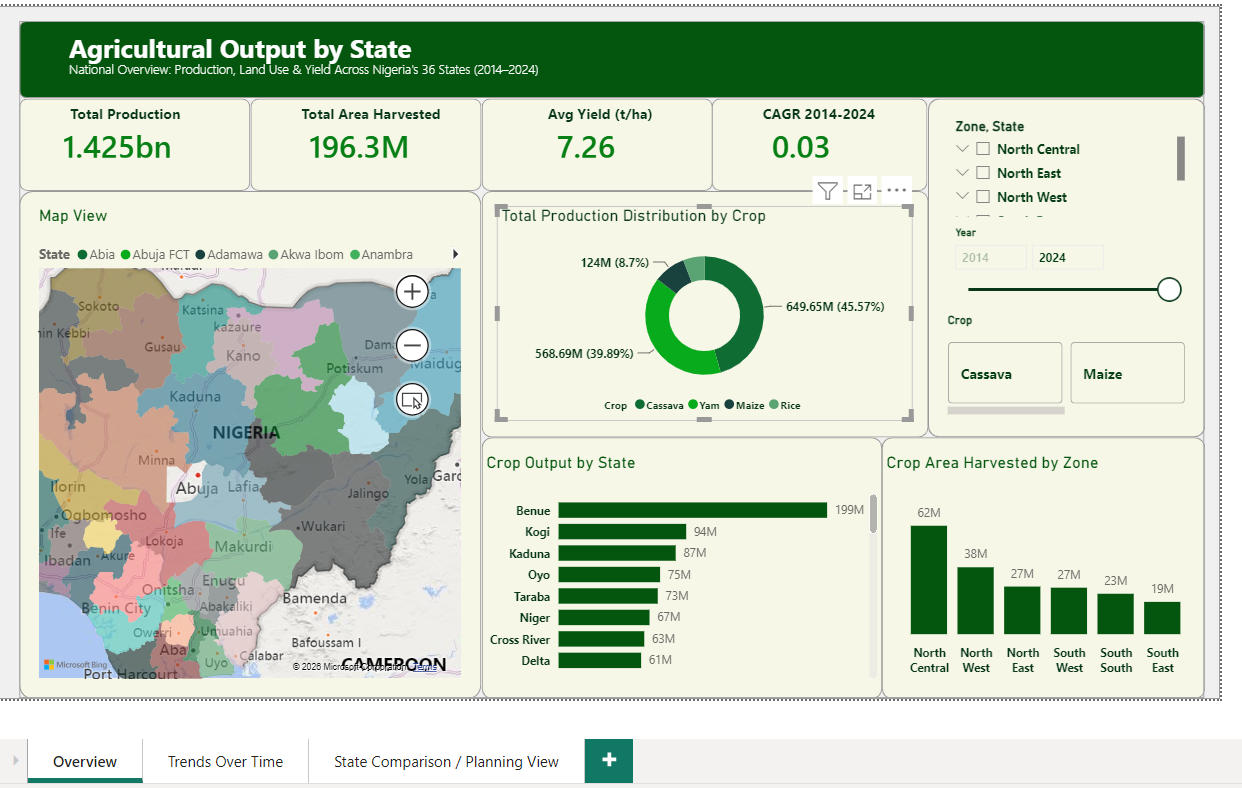

The dashboard page shown, as its layout file describes it:
{"tool":"powerbi","page":{"name":"Overview","canvas":[1280,720],"ordinal":0},"visuals":[{"type":"shape","box":[0,0,1280,720],"z":0},{"type":"shape","box":[32,16,1232,80],"z":1000,"group":"g1"},{"type":"shape","box":[928,448,336,272],"z":1000},{"type":"shape","box":[32,192,480,528],"z":2000,"group":"g1"},{"type":"clusteredColumnChart","title":"Crop Area Harvested  by Zone","fields":{"Category":["Dim_State.Zone"],"Y":["Fact_Crop Output.Total Area Harvested"]},"box":[928,464,336,240],"z":2000},{"type":"group","id":"g1","title":"Group 1","box":[32,16,1232,704],"z":3000},{"type":"shape","box":[512,192,464,256],"z":3000,"group":"g1"},{"type":"textbox","box":[79.5,20.3,656,48],"z":4000},{"type":"shape","box":[512,448,416,272],"z":4000,"group":"g1"},{"type":"textbox","box":[79.5,52.3,896,32],"z":5000},{"type":"filledMap","title":"Map View","fields":{"Category":["Dim_State.State"],"Series":["Fact_Crop Output.State"]},"box":[48,208,448,496],"z":5000,"group":"g1"},{"type":"clusteredBarChart","title":"Crop Output  by State","fields":{"Category":["Dim_State.State"],"Y":["Fact_Crop Output.Total Production"]},"box":[512,464,416,240],"z":6000,"group":"g1"},{"type":"donutChart","title":"Total Production Distribution by Crop","fields":{"Category":["Fact_Crop Output.Crop"],"Y":["Fact_Crop Output.Total Production"]},"box":[528,208,432,224],"z":7000,"group":"g1"},{"type":"shape","box":[976,96,288,352],"z":9000,"group":"g1"},{"type":"advancedSlicerVisual","fields":{"Values":["Fact_Crop Output.Crop"]},"box":[992,320,256,112],"z":10000,"group":"g1"},{"type":"slicer","fields":{"Values":["Dim_Year.Year"]},"box":[992,224,256,96],"z":11000,"group":"g1"},{"type":"slicer","fields":{"Values":["Dim_State.Zone","Dim_State.State"]},"box":[992,112,256,112],"z":12000,"group":"g1"},{"type":"shape","box":[32,96,240,96],"z":13000,"group":"g1"},{"type":"shape","box":[272,96,240,96],"z":14000,"group":"g1"},{"type":"shape","box":[512,96,240,96],"z":15000,"group":"g1"},{"type":"shape","box":[752,96,224,96],"z":16000,"group":"g1"},{"type":"cardVisual","fields":{"Data":["Fact_Crop Output.Total Production"]},"box":[48,112,208,64],"z":17000,"group":"g1"},{"type":"cardVisual","fields":{"Data":["Fact_Crop Output.Total Area Harvested"]},"box":[304,112,176,64],"z":18000,"group":"g1"},{"type":"cardVisual","fields":{"Data":["Fact_Crop Output.Avg Yield (t/ha)"]},"box":[560,112,176,64],"z":19000,"group":"g1"},{"type":"cardVisual","fields":{"Data":["Dim_Year.CAGR 2014-2024"]},"box":[784,112,176,64],"z":20000,"group":"g1"},{"type":"textbox","box":[80,96,176,32],"z":21000,"group":"g1"},{"type":"textbox","box":[320,96,176,32],"z":22000,"group":"g1"},{"type":"textbox","box":[576,96,176,32],"z":23000,"group":"g1"},{"type":"textbox","box":[800,96,176,32],"z":24000,"group":"g1"}]}

Visuals, with their boxes on the page's 1280x720 design canvas (x1, y1, x2, y2). These are canvas units, not pixel positions in the 1242x788 screenshot, which may show the page scaled, cropped or inside an application window:
shape: bbox=(0, 0, 1280, 720)
shape: bbox=(32, 16, 1264, 96)
shape: bbox=(928, 448, 1264, 720)
shape: bbox=(32, 192, 512, 720)
"Crop Area Harvested  by Zone" clusteredColumnChart: bbox=(928, 464, 1264, 704)
"Group 1" group: bbox=(32, 16, 1264, 720)
shape: bbox=(512, 192, 976, 448)
textbox: bbox=(80, 20, 736, 68)
shape: bbox=(512, 448, 928, 720)
textbox: bbox=(80, 52, 976, 84)
"Map View" filledMap: bbox=(48, 208, 496, 704)
"Crop Output  by State" clusteredBarChart: bbox=(512, 464, 928, 704)
"Total Production Distribution by Crop" donutChart: bbox=(528, 208, 960, 432)
shape: bbox=(976, 96, 1264, 448)
advancedSlicerVisual - Fact_Crop Output.Crop: bbox=(992, 320, 1248, 432)
slicer - Dim_Year.Year: bbox=(992, 224, 1248, 320)
slicer - Dim_State.Zone x Dim_State.State: bbox=(992, 112, 1248, 224)
shape: bbox=(32, 96, 272, 192)
shape: bbox=(272, 96, 512, 192)
shape: bbox=(512, 96, 752, 192)
shape: bbox=(752, 96, 976, 192)
cardVisual - Fact_Crop Output.Total Production: bbox=(48, 112, 256, 176)
cardVisual - Fact_Crop Output.Total Area Harvested: bbox=(304, 112, 480, 176)
cardVisual - Fact_Crop Output.Avg Yield (t/ha): bbox=(560, 112, 736, 176)
cardVisual - Dim_Year.CAGR 2014-2024: bbox=(784, 112, 960, 176)
textbox: bbox=(80, 96, 256, 128)
textbox: bbox=(320, 96, 496, 128)
textbox: bbox=(576, 96, 752, 128)
textbox: bbox=(800, 96, 976, 128)
